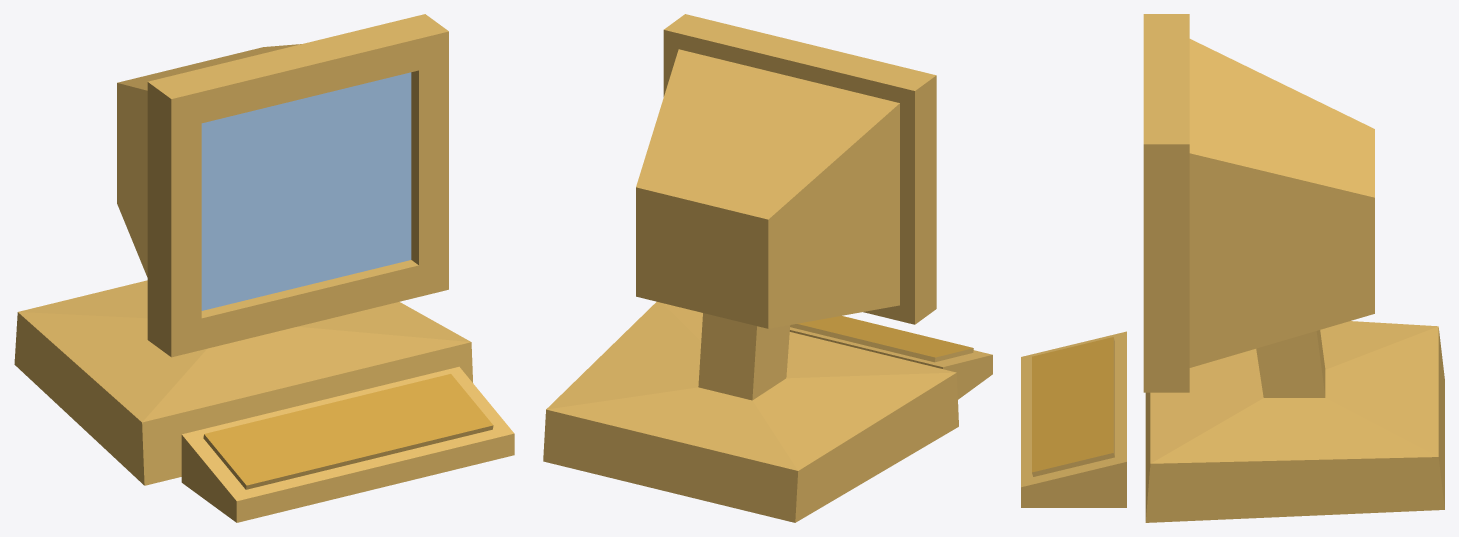
The model's file is information.gltf.
3 renders of one model, left to right at view 1: azimuth 30°, elevation 25°; view 2: azimuth 150°, elevation 25°; view 3: azimuth 270°, elevation 25°, orthographic. The views are drawn at different scales.
Visible parts, largest first — view 1: Information; view 2: Information; view 3: Information.
Part boxes in pixels (left/top/right/bottom): Information: left=14, top=14, right=514, bottom=522; Information: left=543, top=14, right=992, bottom=522; Information: left=1021, top=14, right=1444, bottom=522.
Size of the model in its own units: 1.02 by 1.13 by 1.18.
1 material, 1 textured.
